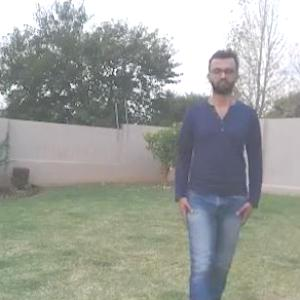follow: (180, 51, 257, 299)
